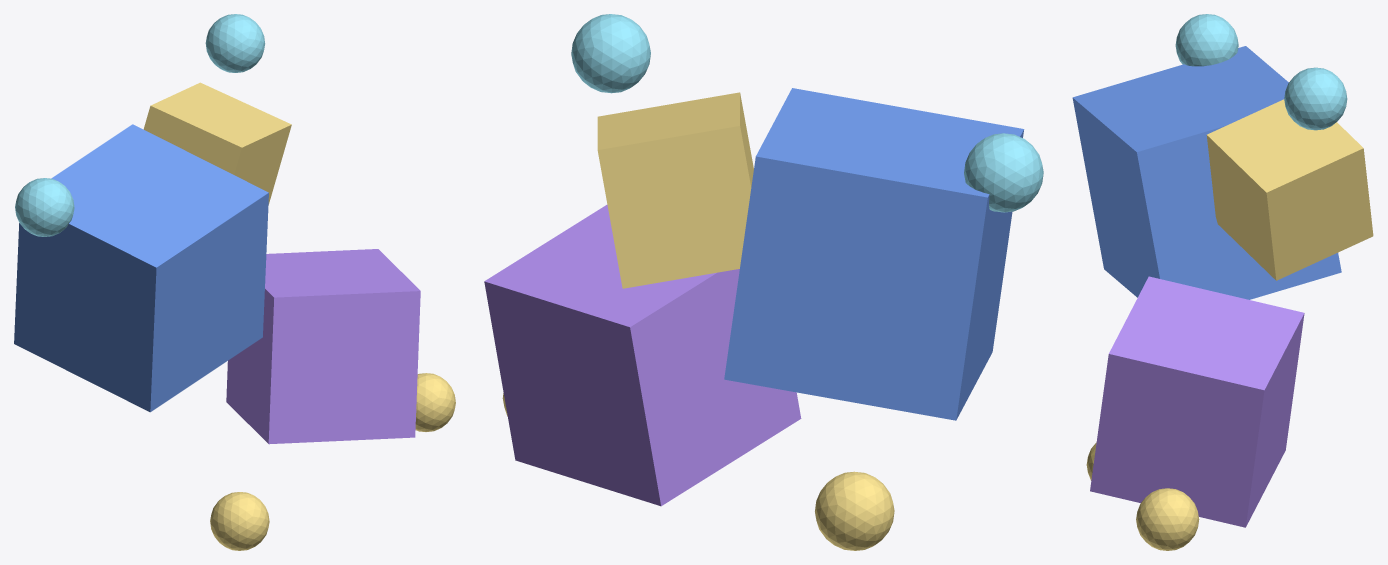
The model's file is code-modules.glb.
3 views of the same model, side by side, from view 1: azimuth 30°, elevation 25°; view 2: azimuth 150°, elevation 25°; view 3: azimuth 270°, elevation 25° (orthographic). The views are drawn at different scales.
Parts seen in each view (by area): view 1: module_0, module_1, module_2, connector_2, connector_3, connector_0, connector_1; view 2: module_0, module_1, module_2, connector_3, connector_2, connector_0; view 3: module_1, module_0, module_2, connector_1, connector_2, connector_0.
Part boxes in pixels (left/top/right/bottom): module_0: left=14, top=124, right=268, bottom=412; module_1: left=226, top=249, right=420, bottom=444; module_2: left=143, top=82, right=291, bottom=205; connector_2: left=205, top=14, right=265, bottom=72; connector_3: left=210, top=492, right=269, bottom=550; connector_0: left=15, top=178, right=74, bottom=236; connector_1: left=415, top=373, right=455, bottom=431; module_0: left=724, top=88, right=1024, bottom=420; module_1: left=484, top=205, right=801, bottom=506; module_2: left=597, top=92, right=753, bottom=288; connector_3: left=815, top=471, right=894, bottom=550; connector_2: left=571, top=14, right=650, bottom=93; connector_0: left=964, top=133, right=1043, bottom=212; module_1: left=1090, top=276, right=1304, bottom=527; module_0: left=1072, top=46, right=1341, bottom=299; module_2: left=1206, top=99, right=1373, bottom=280; connector_1: left=1136, top=488, right=1199, bottom=550; connector_2: left=1284, top=67, right=1347, bottom=130; connector_0: left=1175, top=14, right=1238, bottom=66.
Bounding box in the file's own units: 2.57 × 2.62 × 1.52.
